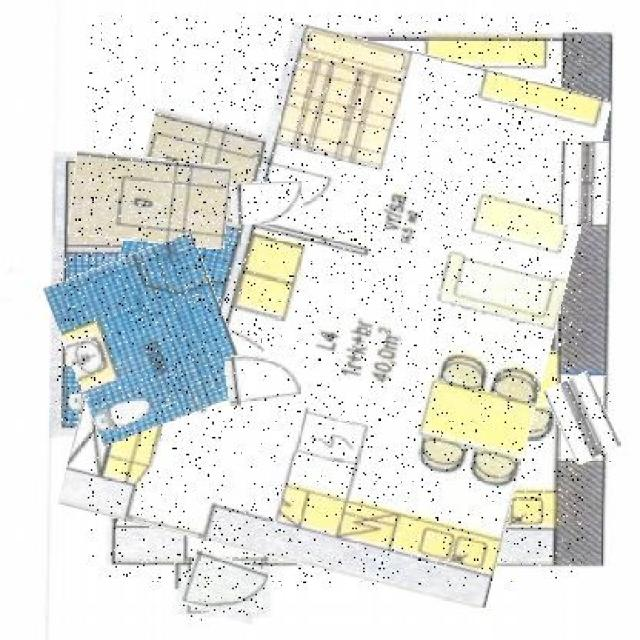door: (183, 555, 265, 620), (226, 351, 303, 403), (231, 182, 303, 223)
window: (551, 374, 614, 461), (558, 140, 610, 225)
zone: (88, 16, 583, 586), (55, 244, 238, 436), (71, 154, 229, 246)
